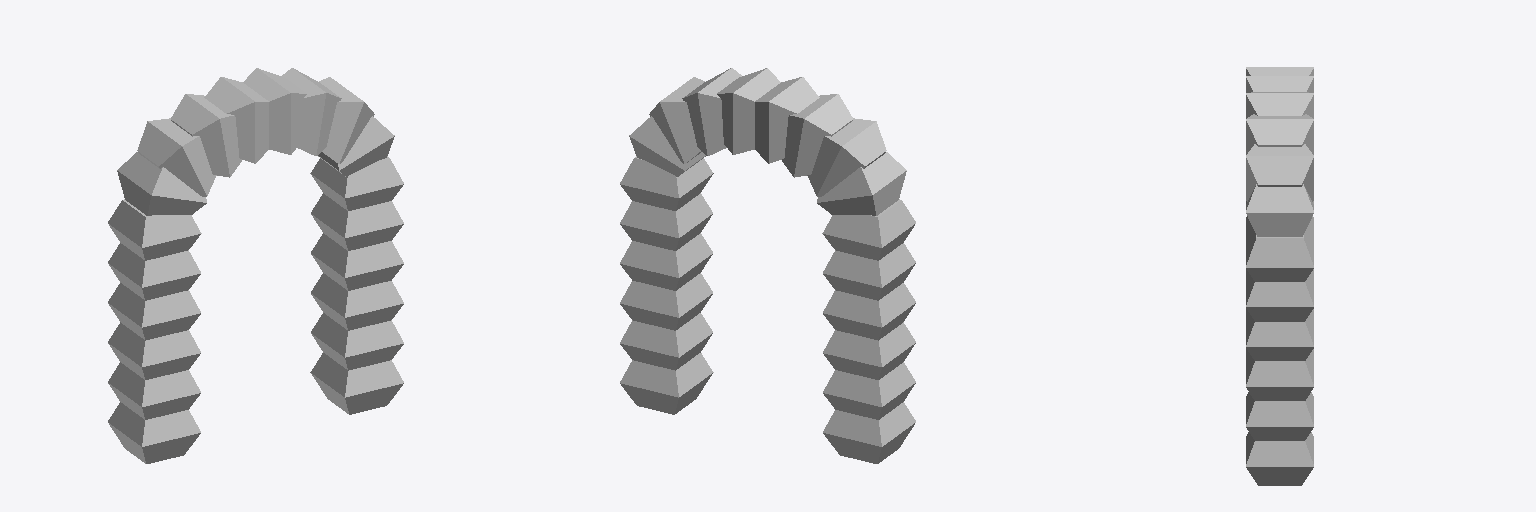
Rendered from treasuredoor.obj.
3 views of the same model, side by side, from view 1: azimuth 30°, elevation 25°; view 2: azimuth 150°, elevation 25°; view 3: azimuth 270°, elevation 25° (orthographic).
Parts seen in each view (by area): view 1: Cube; view 2: Cube; view 3: Cube.
Boxes of the visible parts, box(x1,y1,x2,y2) form: Cube: box(108, 68, 403, 463); Cube: box(620, 68, 915, 463); Cube: box(1246, 67, 1313, 485).
Bounding box in the file's own units: 116 × 144 × 26.32.